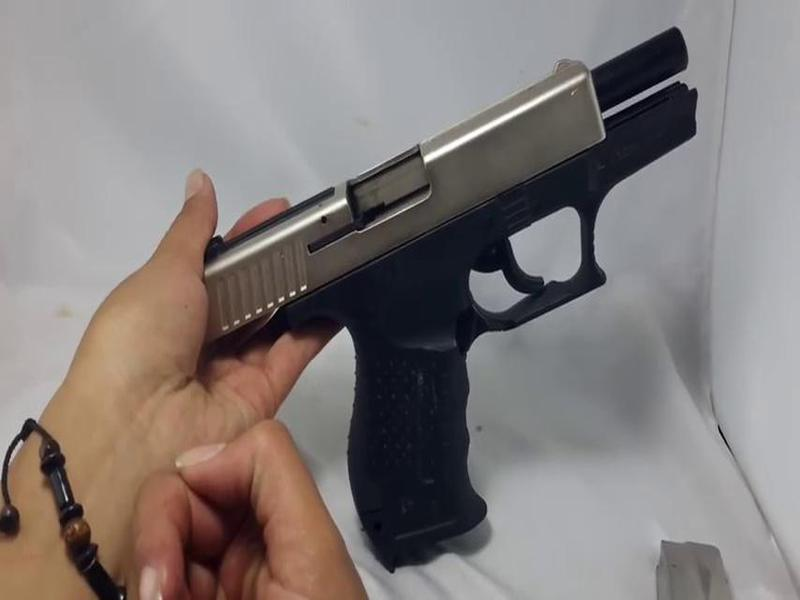Pistola: (189, 25, 724, 576)
